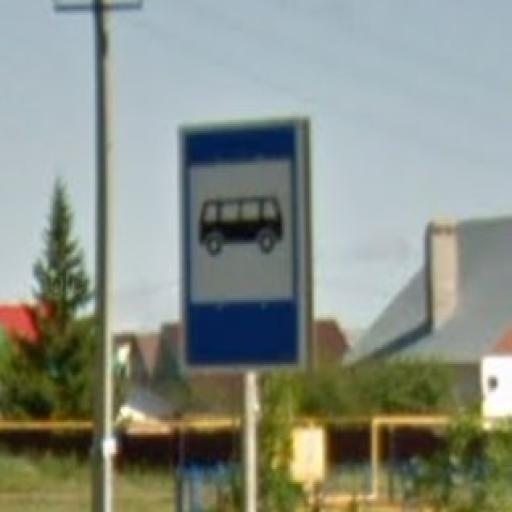traffic_sign: (178, 116, 307, 373)
